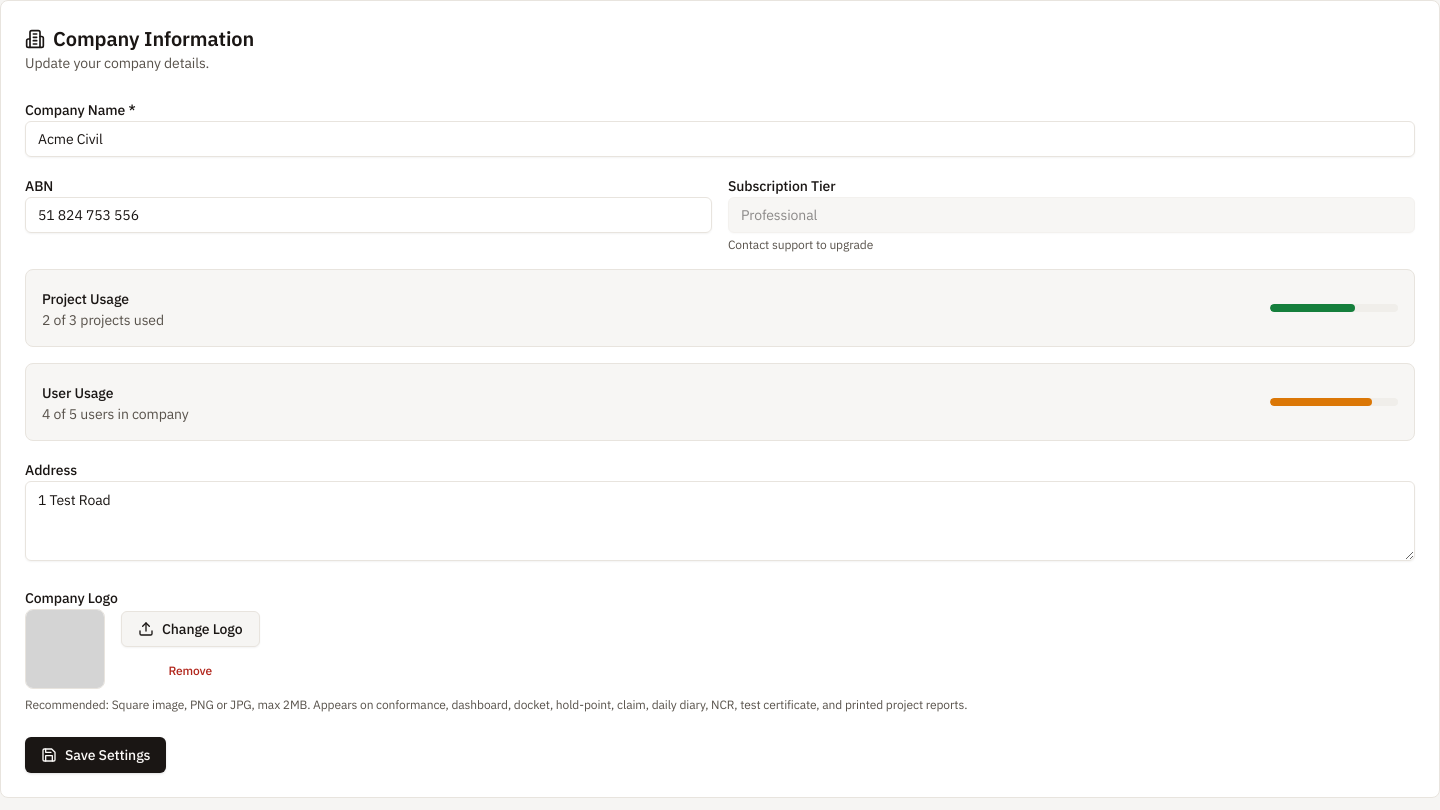
Test: CompanyInformationCard › removes the logo from the local form buffer
Click the button "Remove". click: (190, 671)
box: [121,655,260,687]
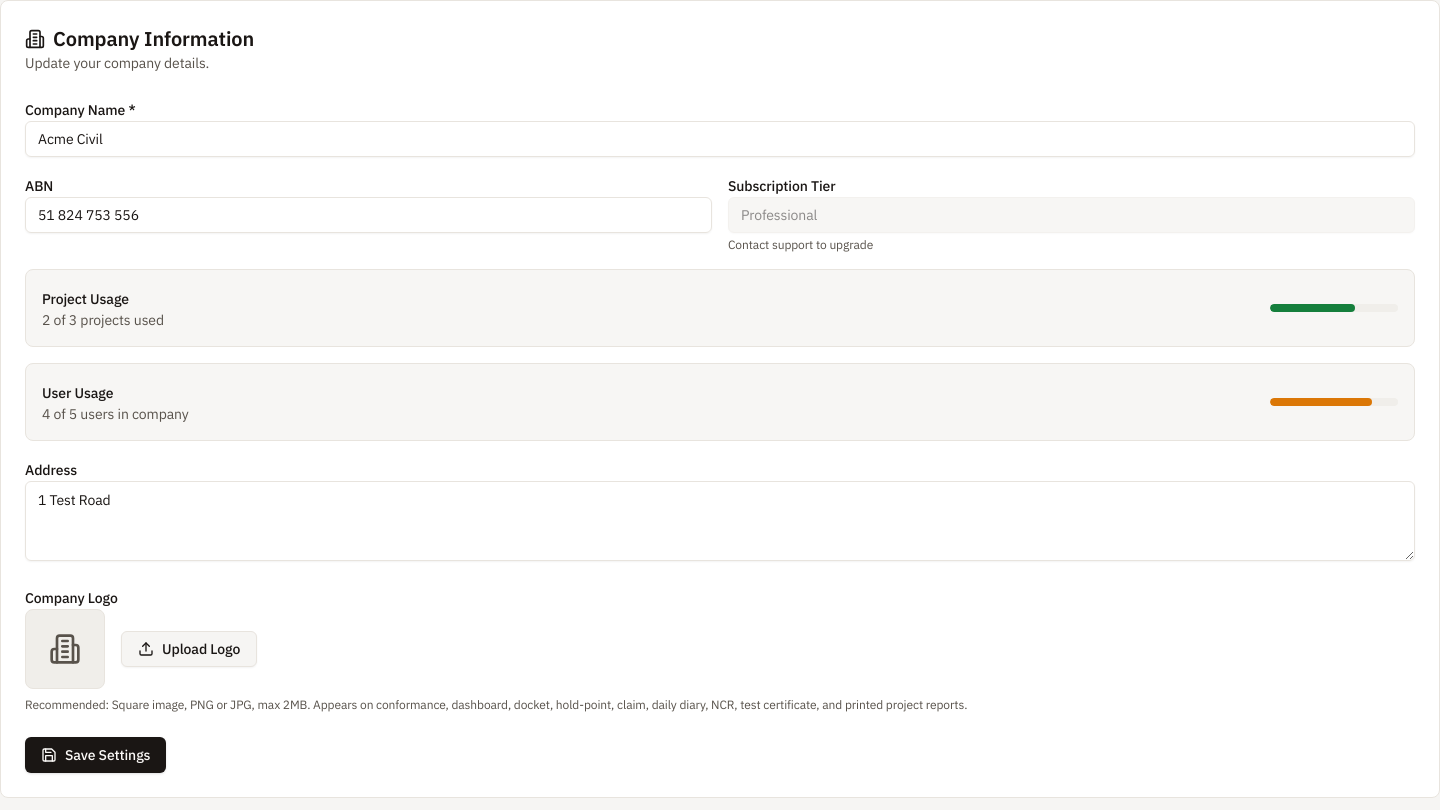
Check: the button "Upload Logo" is shown, box [121,631,257,667]
